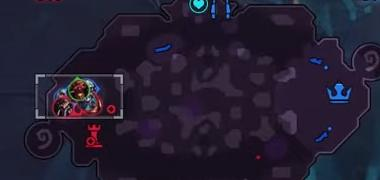red tower: (85, 123, 103, 148)
